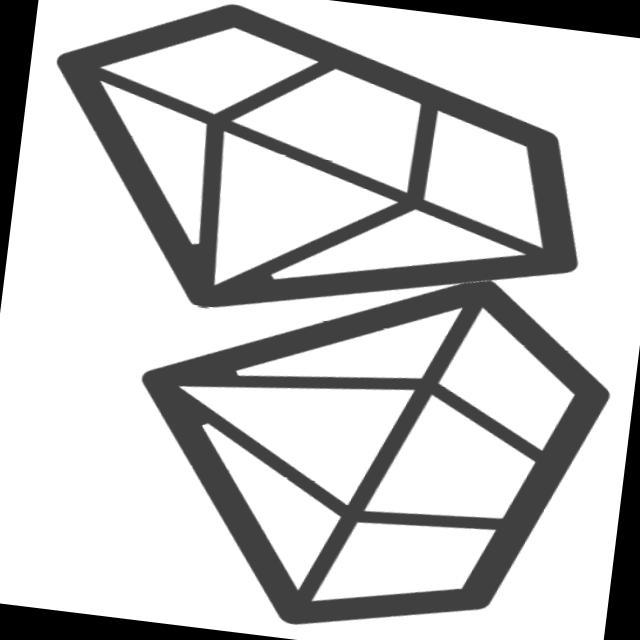diamond: (100, 225, 635, 640), (18, 1, 613, 362)
